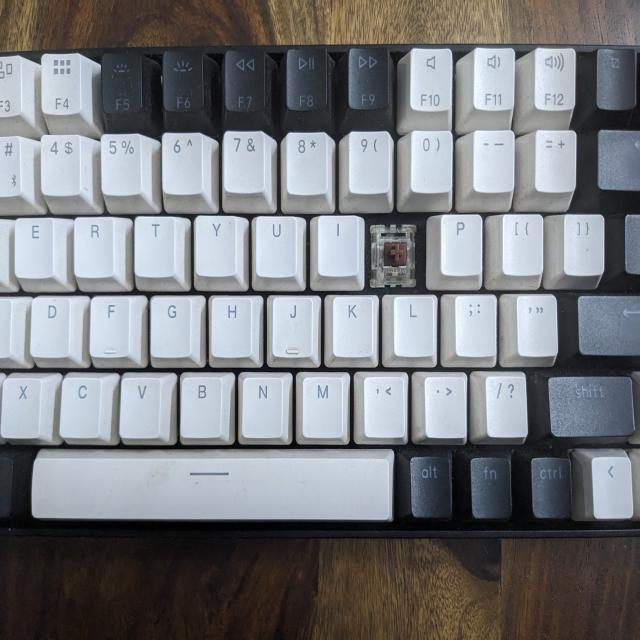key-switch: (372, 221, 420, 292)
